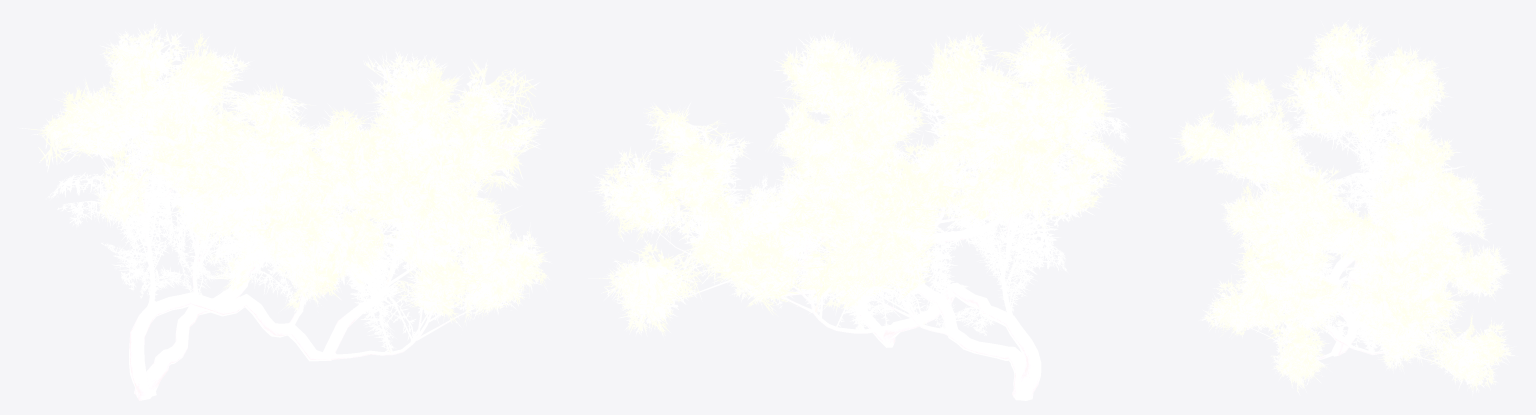
3 renders of one model, left to right at view 1: azimuth 30°, elevation 25°; view 2: azimuth 150°, elevation 25°; view 3: azimuth 270°, elevation 25°, orthographic. The views are drawn at different scales.
Visible parts, largest first — view 1: SM_WoodlandGorse_03_LOD0; view 2: SM_WoodlandGorse_03_LOD0; view 3: SM_WoodlandGorse_03_LOD0.
Part boxes in pixels (x1=…): SM_WoodlandGorse_03_LOD0: x1=19, y1=19, x2=551, y2=400; SM_WoodlandGorse_03_LOD0: x1=588, y1=20, x2=1130, y2=400; SM_WoodlandGorse_03_LOD0: x1=1169, y1=18, x2=1517, y2=395.
Size of the model in its own units: 3.97 by 2.63 by 3.06.
Materials: 1 (1 with a texture image).
